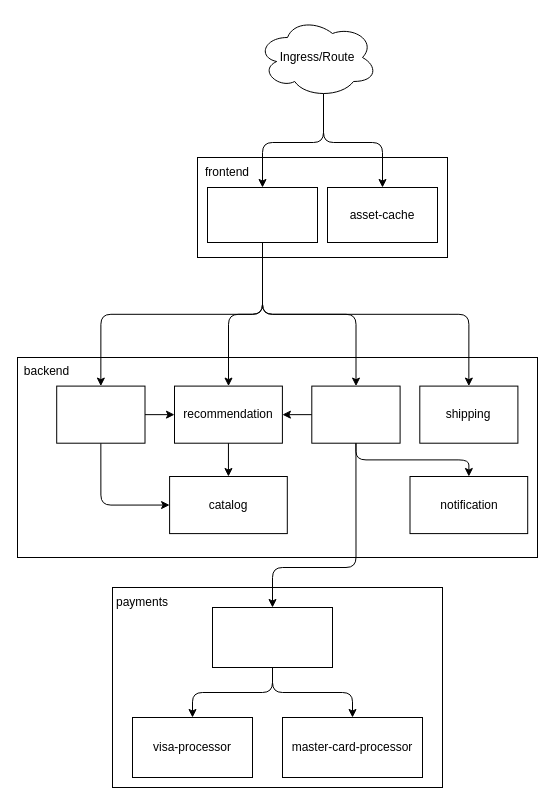
The diagram is 555 pixels wide and 805 high, and some of its shapes have lost their labels. The centre of each missing label's shape, as x and y in pixels:
checkout: (x=355, y=414)
gateway: (x=272, y=637)
reports: (x=100, y=414)
webapp: (x=262, y=214)
